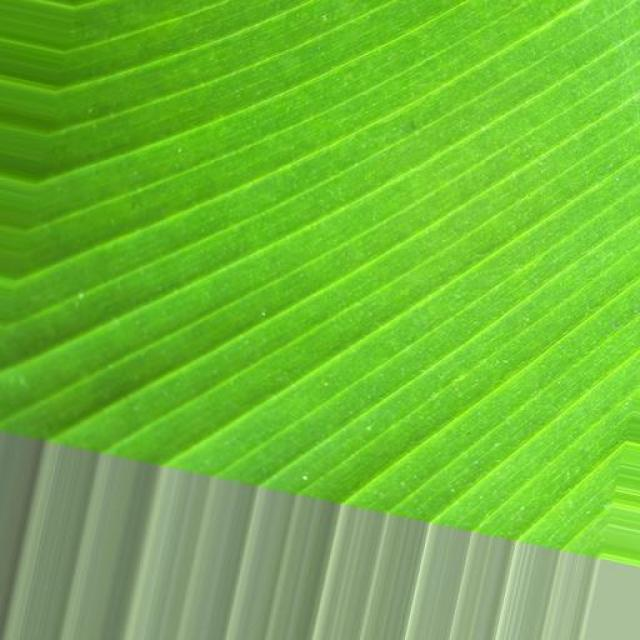Black_leaf_spot: (60, 0, 624, 490)
